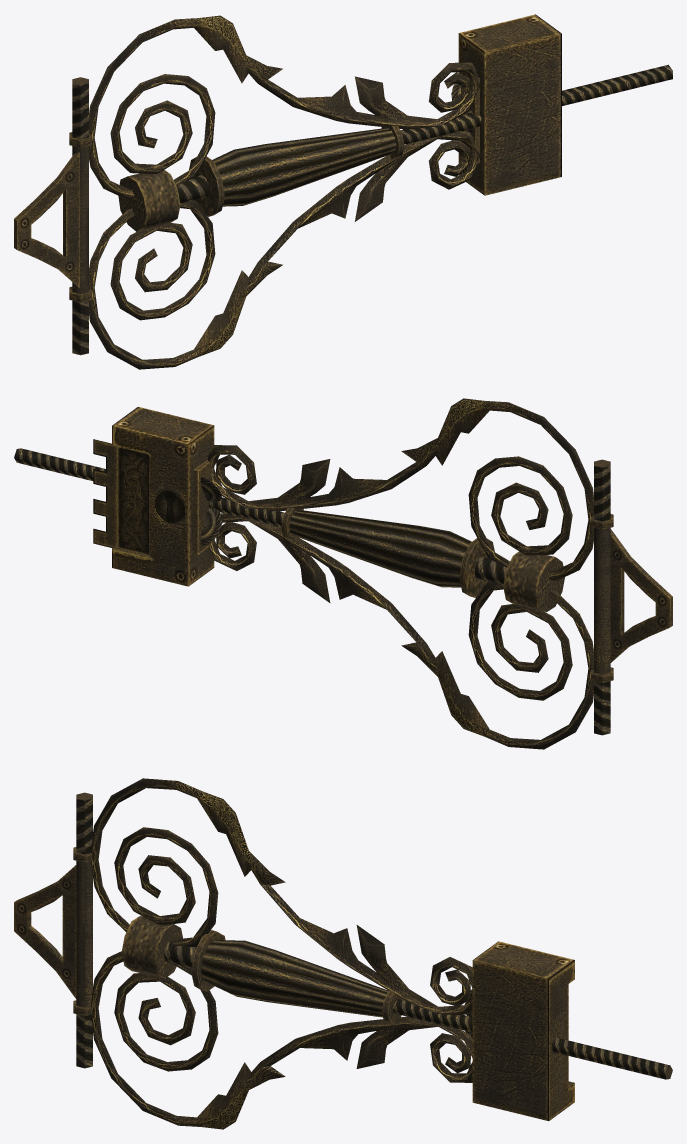
File: draw_lock.DAE
The picture shows the model from 3 angles, top to bottom: view 1: azimuth 30°, elevation 25°; view 2: azimuth 150°, elevation 25°; view 3: azimuth 330°, elevation 25°; orthographic projection.
Visible parts, largest first — view 1: lock_arm_1; view 2: lock_arm_1; view 3: lock_arm_1.
Boxes of the visible parts, box(x1,y1,x2,y2) form: lock_arm_1: box(14, 14, 672, 369); lock_arm_1: box(14, 398, 672, 749); lock_arm_1: box(14, 778, 672, 1129).
Size of the model in its own units: 1.15 by 0.1074 by 0.5827.
